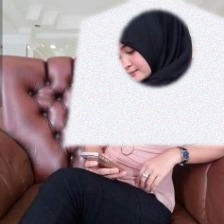Mukena: (63, 0, 224, 146)
